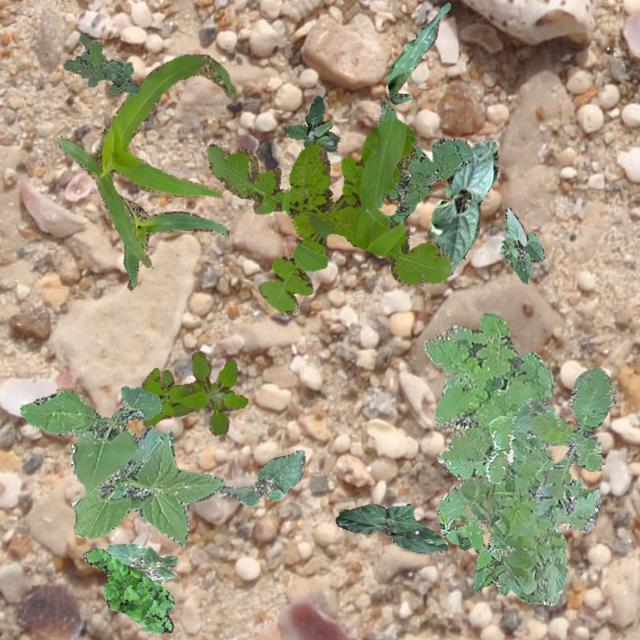crop: (54, 54, 236, 266), (119, 194, 228, 290), (428, 140, 498, 274), (386, 2, 450, 102), (334, 502, 448, 552), (218, 448, 304, 504), (498, 205, 542, 282), (106, 542, 176, 582)
weed: (422, 312, 600, 604), (205, 118, 450, 314), (19, 386, 224, 544), (484, 366, 614, 514), (367, 100, 473, 222), (140, 350, 247, 434), (82, 548, 174, 632), (436, 508, 511, 594), (63, 34, 138, 94), (284, 94, 338, 150)
